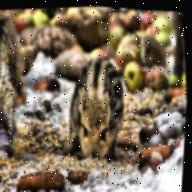boar: (46, 51, 150, 166)
